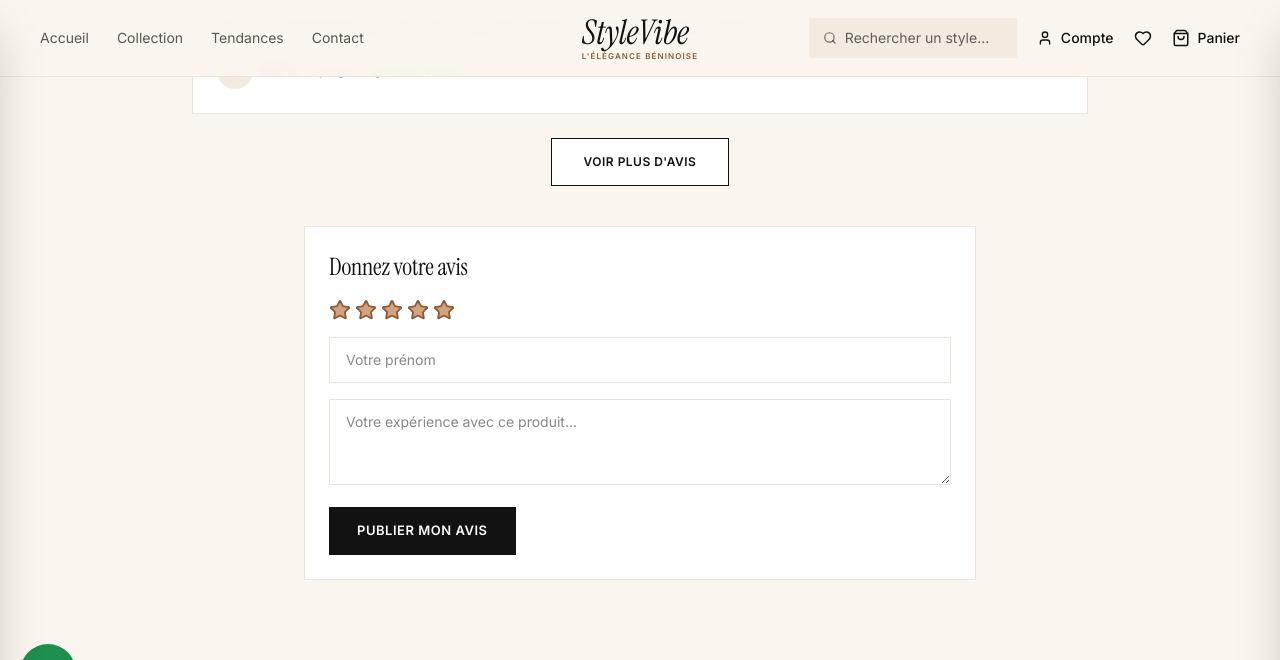
it: avis › un avis publié apparaît en tête de liste
The width and height of the screenshot is (1280, 660).
(page scrolled)
Type "Awa" into the field labelled "Votre prénom" at (640, 360), box [329,337,951,383]
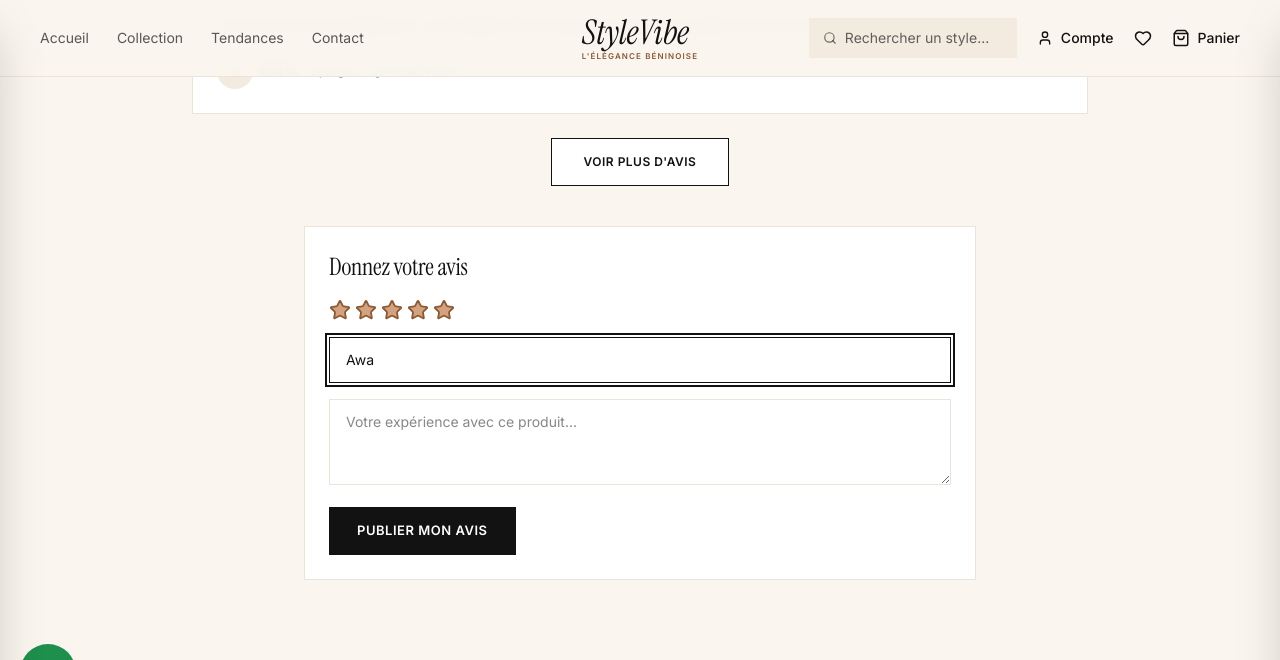
Type "Très confortables, livraison rapide." into the text box named "votre avis" at (640, 442), box [329,399,951,485]
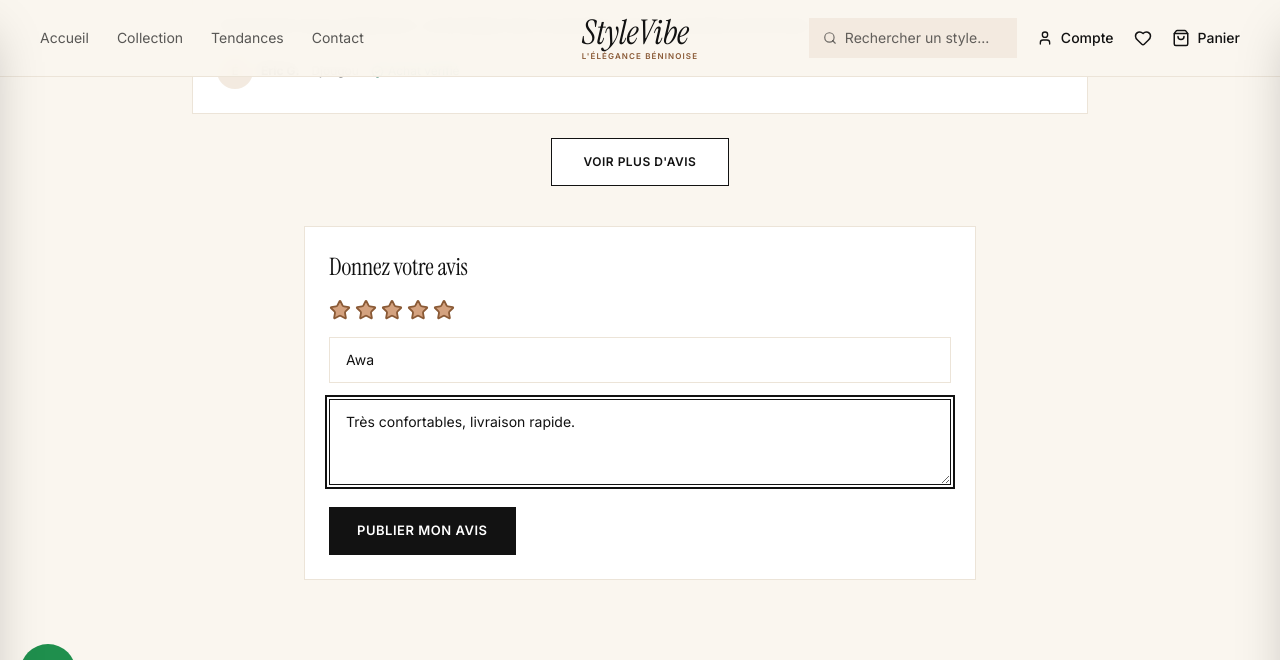
Click the button "Publier mon avis" at (422, 531), box [329,507,516,555]
(page scrolled)
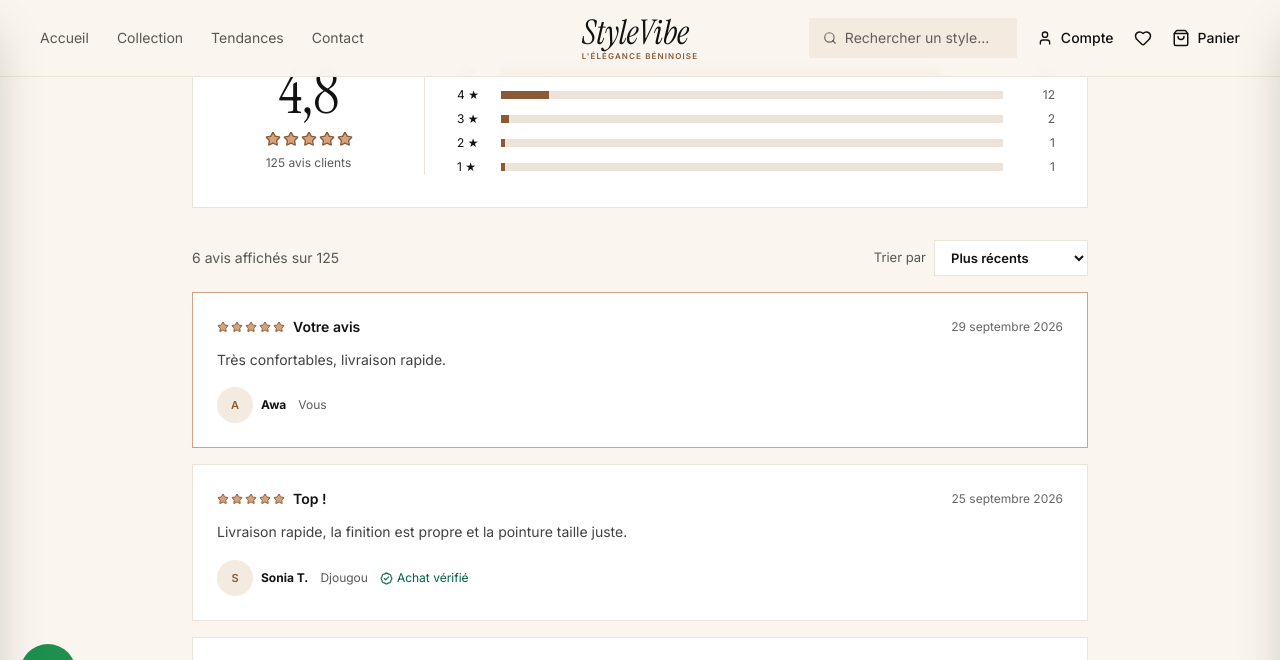
Check: the text "Très confortables, livraison rapide." is shown, box [217,351,446,368]
